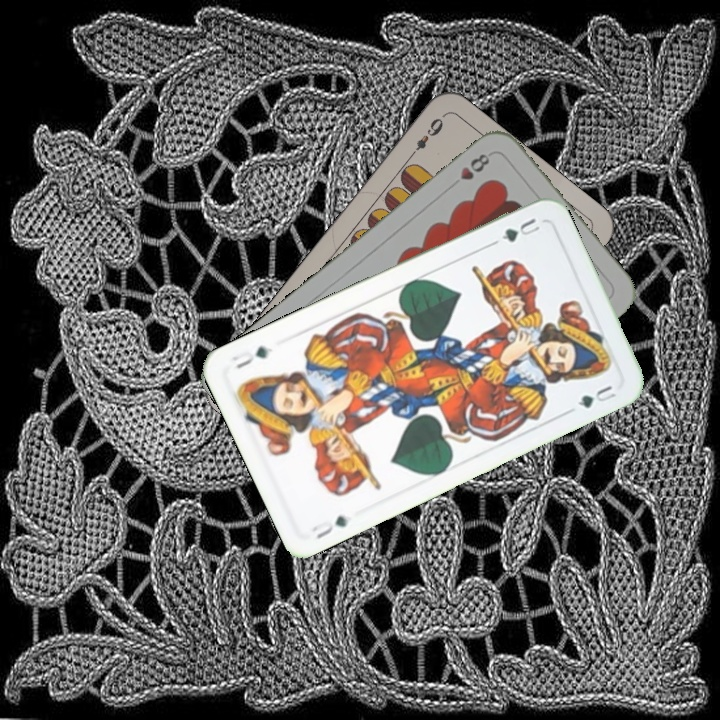E9: (405, 113, 446, 161)
GU: (489, 213, 543, 247), (307, 511, 351, 542)
H8: (446, 149, 492, 191)
